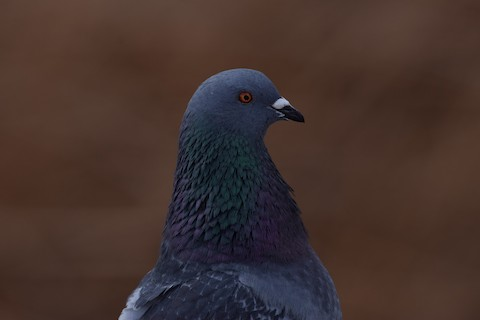pigeon: (113, 63, 353, 318)
